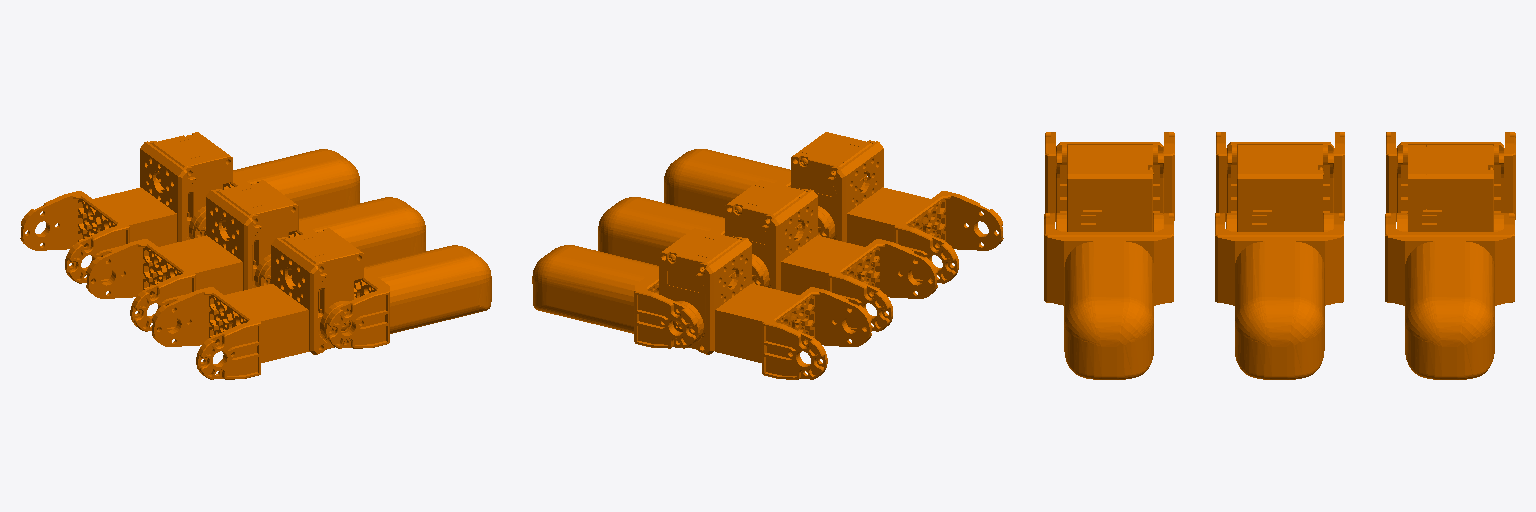
URDF robot description (onshape):
<robot name="onshape">
  <link name="palm_lower">
    <inertial>
      <origin xyz="0.0 0.0 0.0" rpy="0.0 -0.0 0.0"/>
      <mass value="0.237"/>
      <inertia ixx="0.000354094" ixy="-1.193e-06" ixz="-2.445e-06" iyy="0.000260915" iyz="-2.905e-06" izz="0.000529257"/>
    </inertial>
    <visual>
      <geometry>
        <mesh filename="../assets/leap/leap_hand/palm_lower.stl"/>
      </geometry>
      <origin xyz="-0.020095249652862544 0.025757756134899473 -0.034722403578460216" rpy="0.0 -0.0 0.0"/>
      <material name="palm_lower_material">
        <color rgba="0.6039215686274509 0.14901960784313725 0.14901960784313725 1.0"/>
      </material>
    </visual>
    <collision>
      <geometry>
        <mesh filename="../assets/leap/leap_hand/palm_lower.stl"/>
      </geometry>
      <origin xyz="-0.020095249652862544 0.025757756134899473 -0.034722403578460216" rpy="0.0 -0.0 0.0"/>
    </collision>
  </link>
  <link name="mcp_joint">
    <inertial>
      <origin xyz="0.0 0.0 0.0" rpy="0.0 -0.0 0.0"/>
      <mass value="0.044"/>
      <inertia ixx="1.1499e-05" ixy="3.049e-06" ixz="1.21e-07" iyy="7.796e-06" iyz="1.12e-07" izz="1.4759e-05"/>
    </inertial>
    <visual>
      <geometry>
        <mesh filename="../assets/leap/leap_hand/mcp_joint.stl"/>
      </geometry>
      <origin xyz="0.008406902261174496 0.0077662438597169954 0.014657354985032912" rpy="1.6375789613221e-15 -1.021047330249102e-30 1.7177968783327987e-31"/>
      <material name="mcp_joint_material">
        <color rgba="0.8666666666666667 0.8666666666666667 0.050980392156862744 1.0"/>
      </material>
    </visual>
    <collision>
      <geometry>
        <mesh filename="../assets/leap/leap_hand/mcp_joint.stl"/>
      </geometry>
      <origin xyz="0.008406902261174496 0.0077662438597169954 0.014657354985032912" rpy="1.6375789613221e-15 -1.021047330249102e-30 1.7177968783327987e-31"/>
    </collision>
  </link>
  <link name="pip">
    <inertial>
      <origin xyz="0.0 0.0 0.0" rpy="0.0 -0.0 0.0"/>
      <mass value="0.032"/>
      <inertia ixx="4.798e-06" ixy="1.2e-08" ixz="4e-09" iyy="2.862e-06" iyz="1.1e-08" izz="4.234e-06"/>
    </inertial>
    <visual>
      <geometry>
        <mesh filename="../assets/leap/leap_hand/pip.stl"/>
      </geometry>
      <origin xyz="0.009643363092271328 0.0002999999999999895 0.0007840340104173765" rpy="-1.5707963267948966 -1.5707963267948963 0.0"/>
      <material name="pip_material">
        <color rgba="0.7490196078431373 0.7490196078431373 0.7490196078431373 1.0"/>
      </material>
    </visual>
    <collision>
      <geometry>
        <mesh filename="../assets/leap/leap_hand/pip.stl"/>
      </geometry>
      <origin xyz="0.009643363092271328 0.0002999999999999895 0.0007840340104173765" rpy="-1.5707963267948966 -1.5707963267948963 0.0"/>
    </collision>
  </link>
  <link name="dip_long">
    <inertial>
      <origin xyz="0.0 0.0 0.0" rpy="0.0 -0.0 0.0"/>
      <mass value="0.037"/>
      <inertia ixx="5.542e-06" ixy="-6.07e-07" ixz="-1.7e-08" iyy="5.727e-06" iyz="-2.3e-08" izz="6.682e-06"/>
    </inertial>
    <visual>
      <geometry>
        <mesh filename="custom_models/dip_long.stl"/>
      </geometry>
      <origin xyz="0.021133352895225003 -0.00843211914670488 0.00978508816209524" rpy="-3.141592653589793 4.507511124216441e-32 4.439548105392361e-32"/>
      <material name="dip_material">
        <color rgba="0.878 0.467 0.0 1.0"/>
      </material>
    </visual>
    <collision>
      <geometry>
        <mesh filename="custom_models/dip_long.stl"/>
      </geometry>
      <origin xyz="0.021133352895225003 -0.00843211914670488 0.00978508816209524" rpy="-3.141592653589793 4.507511124216441e-32 4.439548105392361e-32"/>
    </collision>
  </link>
  <link name="fingertip_long">
    <inertial>
      <origin xyz="0.0 0.0 0.0" rpy="0.0 -0.0 0.0"/>
      <mass value="0.016"/>
      <inertia ixx="3.368e-06" ixy="1.15e-07" ixz="0.0" iyy="1.556e-06" iyz="0.0" izz="2.863e-06"/>
    </inertial>
    <visual>
      <geometry>
        <mesh filename="custom_models/fingertip_long.stl"/>
      </geometry>
      <origin xyz="0.013286424108533503 -0.006114238386541987 0.014499999999999498" rpy="3.141592653589793 1.1993117970061735e-33 4.439548105392361e-32"/>
      <material name="fingertip_material">
        <color rgba="0.878 0.467 0.0 1.0"/>
      </material>
    </visual>
    <collision>
      <geometry>
        <mesh filename="custom_models/fingertip_long.stl"/>
      </geometry>
      <origin xyz="0.013286424108533503 -0.006114238386541987 0.014499999999999498" rpy="3.141592653589793 1.1993117970061735e-33 4.439548105392361e-32"/>
    </collision>
  </link>
  <link name="pip_4">
    <inertial>
      <origin xyz="0.0 0.0 0.0" rpy="0.0 -0.0 0.0"/>
      <mass value="0.032"/>
      <inertia ixx="4.798e-06" ixy="1.2e-08" ixz="4e-09" iyy="2.862e-06" iyz="1.1e-08" izz="4.234e-06"/>
    </inertial>
    <visual>
      <geometry>
        <mesh filename="../assets/leap/leap_hand/pip.stl"/>
      </geometry>
      <origin xyz="-0.005356636907728671 0.0002999999999999999 0.0007840340104173782" rpy="-1.5707963267948966 -1.5707963267948963 0.0"/>
      <material name="pip_material">
        <color rgba="0.7490196078431373 0.7490196078431373 0.7490196078431373 1.0"/>
      </material>
    </visual>
    <collision>
      <geometry>
        <mesh filename="../assets/leap/leap_hand/pip.stl"/>
      </geometry>
      <origin xyz="-0.005356636907728671 0.0002999999999999999 0.0007840340104173782" rpy="-1.5707963267948966 -1.5707963267948963 0.0"/>
    </collision>
  </link>
  <link name="thumb_pip">
    <inertial>
      <origin xyz="0.0 0.0 0.0" rpy="0.0 -0.0 0.0"/>
      <mass value="0.003"/>
      <inertia ixx="5.93e-07" ixy="0.0" ixz="0.0" iyy="5.49e-07" iyz="0.0" izz="2.24e-07"/>
    </inertial>
    <visual>
      <geometry>
        <mesh filename="../assets/leap/leap_hand/thumb_pip.stl"/>
      </geometry>
      <origin xyz="0.011961920770611187 -5.30825383648903e-16 -0.0158526489566642" rpy="1.5707963267948966 1.6050198443300153e-46 -3.9204996250525193e-59"/>
      <material name="thumb_pip_material">
        <color rgba="0.8666666666666667 0.8666666666666667 0.050980392156862744 1.0"/>
      </material>
    </visual>
    <collision>
      <geometry>
        <mesh filename="../assets/leap/leap_hand/thumb_pip.stl"/>
      </geometry>
      <origin xyz="0.011961920770611187 -5.30825383648903e-16 -0.0158526489566642" rpy="1.5707963267948966 1.6050198443300153e-46 -3.9204996250525193e-59"/>
    </collision>
  </link>
  <link name="thumb_dip">
    <inertial>
      <origin xyz="0.0 0.0 0.0" rpy="0.0 -0.0 0.0"/>
      <mass value="0.038"/>
      <inertia ixx="8.474e-06" ixy="2.41e-07" ixz="2.6e-08" iyy="3.841e-06" iyz="2.5e-08" izz="7.679e-06"/>
    </inertial>
    <visual>
      <geometry>
        <mesh filename="../assets/leap/leap_hand/thumb_dip.stl"/>
      </geometry>
      <origin xyz="0.043968715707239175 0.0579529529737092 -0.008628676449369476" rpy="1.94289029309401e-16 3.27515792264422e-15 1.112375852965736e-46"/>
      <material name="thumb_dip_material">
        <color rgba="0.8666666666666667 0.8666666666666667 0.050980392156862744 1.0"/>
      </material>
    </visual>
    <collision>
      <geometry>
        <mesh filename="../assets/leap/leap_hand/thumb_dip.stl"/>
      </geometry>
      <origin xyz="0.043968715707239175 0.0579529529737092 -0.008628676449369476" rpy="1.94289029309401e-16 3.27515792264422e-15 1.112375852965736e-46"/>
    </collision>
  </link>
  <link name="thumb_fingertip">
    <inertial>
      <origin xyz="0.0 0.0 0.0" rpy="0.0 -0.0 0.0"/>
      <mass value="0.049"/>
      <inertia ixx="2.0372e-05" ixy="-4.89e-07" ixz="-3e-08" iyy="4.336e-06" iyz="-9.7e-08" izz="1.9845e-05"/>
    </inertial>
    <visual>
      <geometry>
        <mesh filename="../assets/leap/leap_hand/thumb_fingertip.stl"/>
      </geometry>
      <origin xyz="0.06255953846266739 0.07845968291139699 0.048992911807332215" rpy="4.379057701015637e-47 -3.33066907387547e-16 1.2042408677791935e-46"/>
      <material name="thumb_fingertip_material">
        <color rgba="0.6039215686274509 0.14901960784313725 0.14901960784313725 1.0"/>
      </material>
    </visual>
    <collision>
      <geometry>
        <mesh filename="../assets/leap/leap_hand/thumb_fingertip.stl"/>
      </geometry>
      <origin xyz="0.06255953846266739 0.07845968291139699 0.048992911807332215" rpy="4.379057701015637e-47 -3.33066907387547e-16 1.2042408677791935e-46"/>
    </collision>
  </link>
  <link name="mcp_joint_2">
    <inertial>
      <origin xyz="0.0 0.0 0.0" rpy="0.0 -0.0 0.0"/>
      <mass value="0.044"/>
      <inertia ixx="1.1499e-05" ixy="3.049e-06" ixz="1.21e-07" iyy="7.796e-06" iyz="1.12e-07" izz="1.4759e-05"/>
    </inertial>
    <visual>
      <geometry>
        <mesh filename="../assets/leap/leap_hand/mcp_joint.stl"/>
      </geometry>
      <origin xyz="0.008406902261174496 0.0077662438597169954 0.014657354985032914" rpy="1.6375789613221e-15 -1.0076465469034e-30 2.1209300131419907e-61"/>
      <material name="mcp_joint_material">
        <color rgba="0.8666666666666667 0.8666666666666667 0.050980392156862744 1.0"/>
      </material>
    </visual>
    <collision>
      <geometry>
        <mesh filename="../assets/leap/leap_hand/mcp_joint.stl"/>
      </geometry>
      <origin xyz="0.008406902261174496 0.0077662438597169954 0.014657354985032914" rpy="1.6375789613221e-15 -1.0076465469034e-30 2.1209300131419907e-61"/>
    </collision>
  </link>
  <link name="pip_2">
    <inertial>
      <origin xyz="0.0 0.0 0.0" rpy="0.0 -0.0 0.0"/>
      <mass value="0.032"/>
      <inertia ixx="4.798e-06" ixy="1.2e-08" ixz="4e-09" iyy="2.862e-06" iyz="1.1e-08" izz="4.234e-06"/>
    </inertial>
    <visual>
      <geometry>
        <mesh filename="../assets/leap/leap_hand/pip.stl"/>
      </geometry>
      <origin xyz="0.009643363092271328 0.0002999999999999947 0.0007840340104173765" rpy="-1.5707963267948966 -1.5707963267948963 0.0"/>
      <material name="pip_material">
        <color rgba="0.7490196078431373 0.7490196078431373 0.7490196078431373 1.0"/>
      </material>
    </visual>
    <collision>
      <geometry>
        <mesh filename="../assets/leap/leap_hand/pip.stl"/>
      </geometry>
      <origin xyz="0.009643363092271328 0.0002999999999999947 0.0007840340104173765" rpy="-1.5707963267948966 -1.5707963267948963 0.0"/>
    </collision>
  </link>
  <link name="dip_2_long">
    <inertial>
      <origin xyz="0.0 0.0 0.0" rpy="0.0 -0.0 0.0"/>
      <mass value="0.037"/>
      <inertia ixx="5.542e-06" ixy="-6.07e-07" ixz="-1.7e-08" iyy="5.727e-06" iyz="-2.3e-08" izz="6.682e-06"/>
    </inertial>
    <visual>
      <geometry>
        <mesh filename="custom_models/dip_long.stl"/>
      </geometry>
      <origin xyz="0.021133352895225003 -0.008432119146704865 0.009785088162095237" rpy="-3.141592653589793 2.1146933785271956e-32 1.4408183216511869e-31"/>
      <material name="dip_material">
        <color rgba="0.878 0.467 0.0 1.0"/>
      </material>
    </visual>
    <collision>
      <geometry>
        <mesh filename="custom_models/dip_long.stl"/>
      </geometry>
      <origin xyz="0.021133352895225003 -0.008432119146704865 0.009785088162095237" rpy="-3.141592653589793 2.1146933785271956e-32 1.4408183216511869e-31"/>
    </collision>
  </link>
  <link name="fingertip_2_long">
    <inertial>
      <origin xyz="0.0 0.0 0.0" rpy="0.0 -0.0 0.0"/>
      <mass value="0.016"/>
      <inertia ixx="3.368e-06" ixy="1.15e-07" ixz="0.0" iyy="1.556e-06" iyz="0.0" izz="2.863e-06"/>
    </inertial>
    <visual>
      <geometry>
        <mesh filename="custom_models/fingertip_long.stl"/>
      </geometry>
      <origin xyz="0.013286424108533496 -0.006114238386542001 0.014499999999999496" rpy="3.141592653589793 -4.317959788283594e-33 1.4408183216511869e-31"/>
      <material name="fingertip_material">
        <color rgba="0.878 0.467 0.0 1.0"/>
      </material>
    </visual>
    <collision>
      <geometry>
        <mesh filename="custom_models/fingertip_long.stl"/>
      </geometry>
      <origin xyz="0.013286424108533496 -0.006114238386542001 0.014499999999999496" rpy="3.141592653589793 -4.317959788283594e-33 1.4408183216511869e-31"/>
    </collision>
  </link>
  <link name="mcp_joint_3">
    <inertial>
      <origin xyz="0.0 0.0 0.0" rpy="0.0 -0.0 0.0"/>
      <mass value="0.044"/>
      <inertia ixx="1.1499e-05" ixy="3.049e-06" ixz="1.21e-07" iyy="7.796e-06" iyz="1.12e-07" izz="1.4759e-05"/>
    </inertial>
    <visual>
      <geometry>
        <mesh filename="../assets/leap/leap_hand/mcp_joint.stl"/>
      </geometry>
      <origin xyz="0.0084069022611745 0.007766243859716996 0.014657354985032914" rpy="1.6375789613221e-15 -1.0059504988632627e-30 5.729641584552035e-32"/>
      <material name="mcp_joint_material">
        <color rgba="0.8666666666666667 0.8666666666666667 0.050980392156862744 1.0"/>
      </material>
    </visual>
    <collision>
      <geometry>
        <mesh filename="../assets/leap/leap_hand/mcp_joint.stl"/>
      </geometry>
      <origin xyz="0.0084069022611745 0.007766243859716996 0.014657354985032914" rpy="1.6375789613221e-15 -1.0059504988632627e-30 5.729641584552035e-32"/>
    </collision>
  </link>
  <link name="pip_3">
    <inertial>
      <origin xyz="0.0 0.0 0.0" rpy="0.0 -0.0 0.0"/>
      <mass value="0.032"/>
      <inertia ixx="4.798e-06" ixy="1.2e-08" ixz="4e-09" iyy="2.862e-06" iyz="1.1e-08" izz="4.234e-06"/>
    </inertial>
    <visual>
      <geometry>
        <mesh filename="../assets/leap/leap_hand/pip.stl"/>
      </geometry>
      <origin xyz="0.009643363092271331 0.00029999999999998084 0.0007840340104173765" rpy="-1.5707963267948966 -1.5707963267948963 0.0"/>
      <material name="pip_material">
        <color rgba="0.7490196078431373 0.7490196078431373 0.7490196078431373 1.0"/>
      </material>
    </visual>
    <collision>
      <geometry>
        <mesh filename="../assets/leap/leap_hand/pip.stl"/>
      </geometry>
      <origin xyz="0.009643363092271331 0.00029999999999998084 0.0007840340104173765" rpy="-1.5707963267948966 -1.5707963267948963 0.0"/>
    </collision>
  </link>
  <link name="dip_3_long">
    <inertial>
      <origin xyz="0.0 0.0 0.0" rpy="0.0 -0.0 0.0"/>
      <mass value="0.037"/>
      <inertia ixx="5.542e-06" ixy="-6.07e-07" ixz="-1.7e-08" iyy="5.727e-06" iyz="-2.3e-08" izz="6.682e-06"/>
    </inertial>
    <visual>
      <geometry>
        <mesh filename="custom_models/dip_long.stl"/>
      </geometry>
      <origin xyz="0.021133352895225006 -0.008432119146704865 0.009785088162095237" rpy="-3.141592653589793 -1.4095651113919093e-33 1.5565411607615035e-32"/>
      <material name="dip_material">
        <color rgba="0.878 0.467 0.0 1.0"/>
      </material>
    </visual>
    <collision>
      <geometry>
        <mesh filename="custom_models/dip_long.stl"/>
      </geometry>
      <origin xyz="0.021133352895225006 -0.008432119146704865 0.009785088162095237" rpy="-3.141592653589793 -1.4095651113919093e-33 1.5565411607615035e-32"/>
    </collision>
  </link>
  <link name="fingertip_3_long">
    <inertial>
      <origin xyz="0.0 0.0 0.0" rpy="0.0 -0.0 0.0"/>
      <mass value="0.016"/>
      <inertia ixx="3.368e-06" ixy="1.15e-07" ixz="0.0" iyy="1.556e-06" iyz="0.0" izz="2.863e-06"/>
    </inertial>
    <visual>
      <geometry>
        <mesh filename="custom_models/fingertip_long.stl"/>
      </geometry>
      <origin xyz="0.013286424108533501 -0.006114238386541987 0.0144999999999995" rpy="3.141592653589793 8.61707169505754e-33 1.5565411607615035e-32"/>
      <material name="fingertip_material">
        <color rgba="0.878 0.467 0.0 1.0"/>
      </material>
    </visual>
    <collision>
      <geometry>
        <mesh filename="custom_models/fingertip_long.stl"/>
      </geometry>
      <origin xyz="0.013286424108533501 -0.006114238386541987 0.0144999999999995" rpy="3.141592653589793 8.61707169505754e-33 1.5565411607615035e-32"/>
    </collision>
  </link>
  <joint name="1" type="revolute">
    <parent link="palm_lower"/>
    <child link="mcp_joint"/>
    <origin xyz="-0.007095249652862546 0.023057756134899472 -0.01872240357846022" rpy="1.570796326794895 1.5707963267948946 0.0"/>
    <axis xyz="0.0 0.0 -1.0"/>
    <limit effort="0.95" velocity="8.48" lower="-0.314" upper="2.23"/>
  </joint>
  <joint name="0" type="revolute">
    <parent link="mcp_joint"/>
    <child link="pip"/>
    <origin xyz="-0.012200000000000008 0.038099999999999995 0.0145" rpy="-1.5707963267948966 -1.0065212660796337e-15 1.5707963267948943"/>
    <axis xyz="0.0 0.0 -1.0"/>
    <limit effort="0.95" velocity="8.48" lower="-1.047" upper="1.047"/>
  </joint>
  <joint name="2" type="revolute">
    <parent link="pip"/>
    <child link="dip_long"/>
    <origin xyz="0.014999999999999968 0.014299999999999905 -0.012999999999999824" rpy="1.570796326794896 -1.5707963267948963 0.0"/>
    <axis xyz="0.0 0.0 -1.0"/>
    <limit effort="0.95" velocity="8.48" lower="-0.506" upper="1.885"/>
  </joint>
  <joint name="3" type="revolute">
    <parent link="dip_long"/>
    <child link="fingertip_long"/>
    <origin xyz="-4.0880582495572692636e-09 -0.051100004210367367397 0.00020000000000007858714" rpy="4.5935029425113685e-17 -2.8730071914463795e-16 4.439548105392361e-32"/>
    <axis xyz="0.0 0.0 -1.0"/>
    <limit effort="0.95" velocity="8.48" lower="-0.366" upper="2.042"/>
  </joint>
  <joint name="12" type="revolute">
    <parent link="palm_lower"/>
    <child link="pip_4"/>
    <origin xyz="-0.06939524965286253 -0.0012422438651005258 -0.021622403578460216" rpy="-8.238176646493942e-17 1.5707963267948957 0.0"/>
    <axis xyz="0.0 0.0 -1.0"/>
    <limit effort="0.95" velocity="8.48" lower="-0.349" upper="2.094"/>
  </joint>
  <joint name="13" type="revolute">
    <parent link="pip_4"/>
    <child link="thumb_pip"/>
    <origin xyz="-2.7755575615628914e-17 0.014300000000000005 -0.013000000000000012" rpy="1.570796326794896 -1.5707963267948963 0.0"/>
    <axis xyz="0.0 0.0 -1.0"/>
    <limit effort="0.95" velocity="8.48" lower="-0.47" upper="2.443"/>
  </joint>
  <joint name="14" type="revolute">
    <parent link="thumb_pip"/>
    <child link="thumb_dip"/>
    <origin xyz="0.0 0.014499999999999966 -0.017000000000000053" rpy="-1.5707963267948966 1.6050198443300131e-46 -1.9721522630516625e-31"/>
    <axis xyz="0.0 0.0 -1.0"/>
    <limit effort="0.95" velocity="8.48" lower="-1.2" upper="1.9"/>
  </joint>
  <joint name="15" type="revolute">
    <parent link="thumb_dip"/>
    <child link="thumb_fingertip"/>
    <origin xyz="-1.249000902703301e-16 0.046599999999999864 0.0001999999999999771" rpy="1.506395849149178e-44 5.423418723393526e-31 3.141592653589793"/>
    <axis xyz="0.0 0.0 -1.0"/>
    <limit effort="0.95" velocity="8.48" lower="-1.34" upper="1.88"/>
  </joint>
  <joint name="5" type="revolute">
    <parent link="palm_lower"/>
    <child link="mcp_joint_2"/>
    <origin xyz="-0.007095249652862546 -0.022392243865100525 -0.01872240357846022" rpy="1.570796326794895 1.5707963267948946 0.0"/>
    <axis xyz="0.0 0.0 -1.0"/>
    <limit effort="0.95" velocity="8.48" lower="-0.314" upper="2.23"/>
  </joint>
  <joint name="4" type="revolute">
    <parent link="mcp_joint_2"/>
    <child link="pip_2"/>
    <origin xyz="-0.012200000000000008 0.038099999999999995 0.0145" rpy="-1.5707963267948966 -1.0065212660796337e-15 1.5707963267948943"/>
    <axis xyz="0.0 0.0 -1.0"/>
    <limit effort="0.95" velocity="8.48" lower="-1.047" upper="1.047"/>
  </joint>
  <joint name="6" type="revolute">
    <parent link="pip_2"/>
    <child link="dip_2_long"/>
    <origin xyz="0.014999999999999968 0.014299999999999905 -0.012999999999999824" rpy="1.570796326794896 -1.5707963267948963 0.0"/>
    <axis xyz="0.0 0.0 -1.0"/>
    <limit effort="0.95" velocity="8.48" lower="-0.506" upper="1.885"/>
  </joint>
  <joint name="7" type="revolute">
    <parent link="dip_2_long"/>
    <child link="fingertip_2_long"/>
    <origin xyz="-4.0880582495572692636e-09 -0.051100004210367367397 0.00020000000000007858714" rpy="4.5935029425113685e-17 -2.8730071914463795e-16 4.439548105392361e-32"/>
    <axis xyz="0.0 0.0 -1.0"/>
    <limit effort="0.95" velocity="8.48" lower="-0.366" upper="2.042"/>
  </joint>
  <joint name="9" type="revolute">
    <parent link="palm_lower"/>
    <child link="mcp_joint_3"/>
    <origin xyz="-0.007095249652862546 -0.06784224386510052 -0.01872240357846022" rpy="1.570796326794895 1.5707963267948946 0.0"/>
    <axis xyz="0.0 0.0 -1.0"/>
    <limit effort="0.95" velocity="8.48" lower="-0.314" upper="2.23"/>
  </joint>
  <joint name="8" type="revolute">
    <parent link="mcp_joint_3"/>
    <child link="pip_3"/>
    <origin xyz="-0.012200000000000008 0.038099999999999995 0.0145" rpy="-1.5707963267948966 -1.0065212660796337e-15 1.5707963267948943"/>
    <axis xyz="0.0 0.0 -1.0"/>
    <limit effort="0.95" velocity="8.48" lower="-1.047" upper="1.047"/>
  </joint>
  <joint name="10" type="revolute">
    <parent link="pip_3"/>
    <child link="dip_3_long"/>
    <origin xyz="0.014999999999999968 0.014299999999999905 -0.012999999999999824" rpy="1.570796326794896 -1.5707963267948963 0.0"/>
    <axis xyz="0.0 0.0 -1.0"/>
    <limit effort="0.95" velocity="8.48" lower="-0.506" upper="1.885"/>
  </joint>
  <joint name="11" type="revolute">
    <parent link="dip_3_long"/>
    <child link="fingertip_3_long"/>
    <origin xyz="-4.0880582495572692636e-09 -0.051100004210367367397 0.00020000000000007858714" rpy="4.5935029425113685e-17 -2.8730071914463795e-16 4.439548105392361e-32"/>
    <axis xyz="0.0 0.0 -1.0"/>
    <limit effort="0.95" velocity="8.48" lower="-0.366" upper="2.042"/>
  </joint>
</robot>

--- Render facts (derived) ---
The picture shows the robot from 3 angles, left to right: view 1: azimuth 30°, elevation 25°; view 2: azimuth 150°, elevation 25°; view 3: azimuth 270°, elevation 25°; orthographic projection.
Robot: onshape — 17 links, 16 joints (16 revolute); root link palm_lower; default pose: every joint at zero.
Visible links, largest first — view 1: dip_3_long, dip_long, dip_2_long, fingertip_3_long, fingertip_long, fingertip_2_long; view 2: dip_long, dip_3_long, dip_2_long, fingertip_long, fingertip_2_long, fingertip_3_long; view 3: fingertip_long, fingertip_3_long, fingertip_2_long, dip_3_long, dip_long, dip_2_long.
Boxes of the visible links, box(x1,y1,x2,y2) form: dip_3_long: box(152, 228, 363, 379); dip_long: box(20, 132, 232, 283); dip_2_long: box(86, 180, 298, 331); fingertip_3_long: box(324, 245, 491, 348); fingertip_long: box(193, 149, 359, 237); fingertip_2_long: box(259, 197, 425, 286); dip_long: box(659, 228, 871, 379); dip_3_long: box(791, 132, 1003, 283); dip_2_long: box(725, 180, 937, 331); fingertip_long: box(532, 245, 699, 348); fingertip_2_long: box(598, 197, 765, 286); fingertip_3_long: box(664, 149, 830, 238); fingertip_long: box(1385, 213, 1514, 379); fingertip_3_long: box(1044, 213, 1173, 379); fingertip_2_long: box(1215, 213, 1343, 379); dip_3_long: box(1045, 132, 1174, 231); dip_long: box(1386, 132, 1515, 231); dip_2_long: box(1216, 132, 1344, 231).
Size in the robot's own frame: 0.1235 by 0.1257 by 0.0356 metres.
6 mesh visuals loaded from 8 distinct referenced files (2 binary STL); not drawn: 11 (reference not matched to a file when rendering).